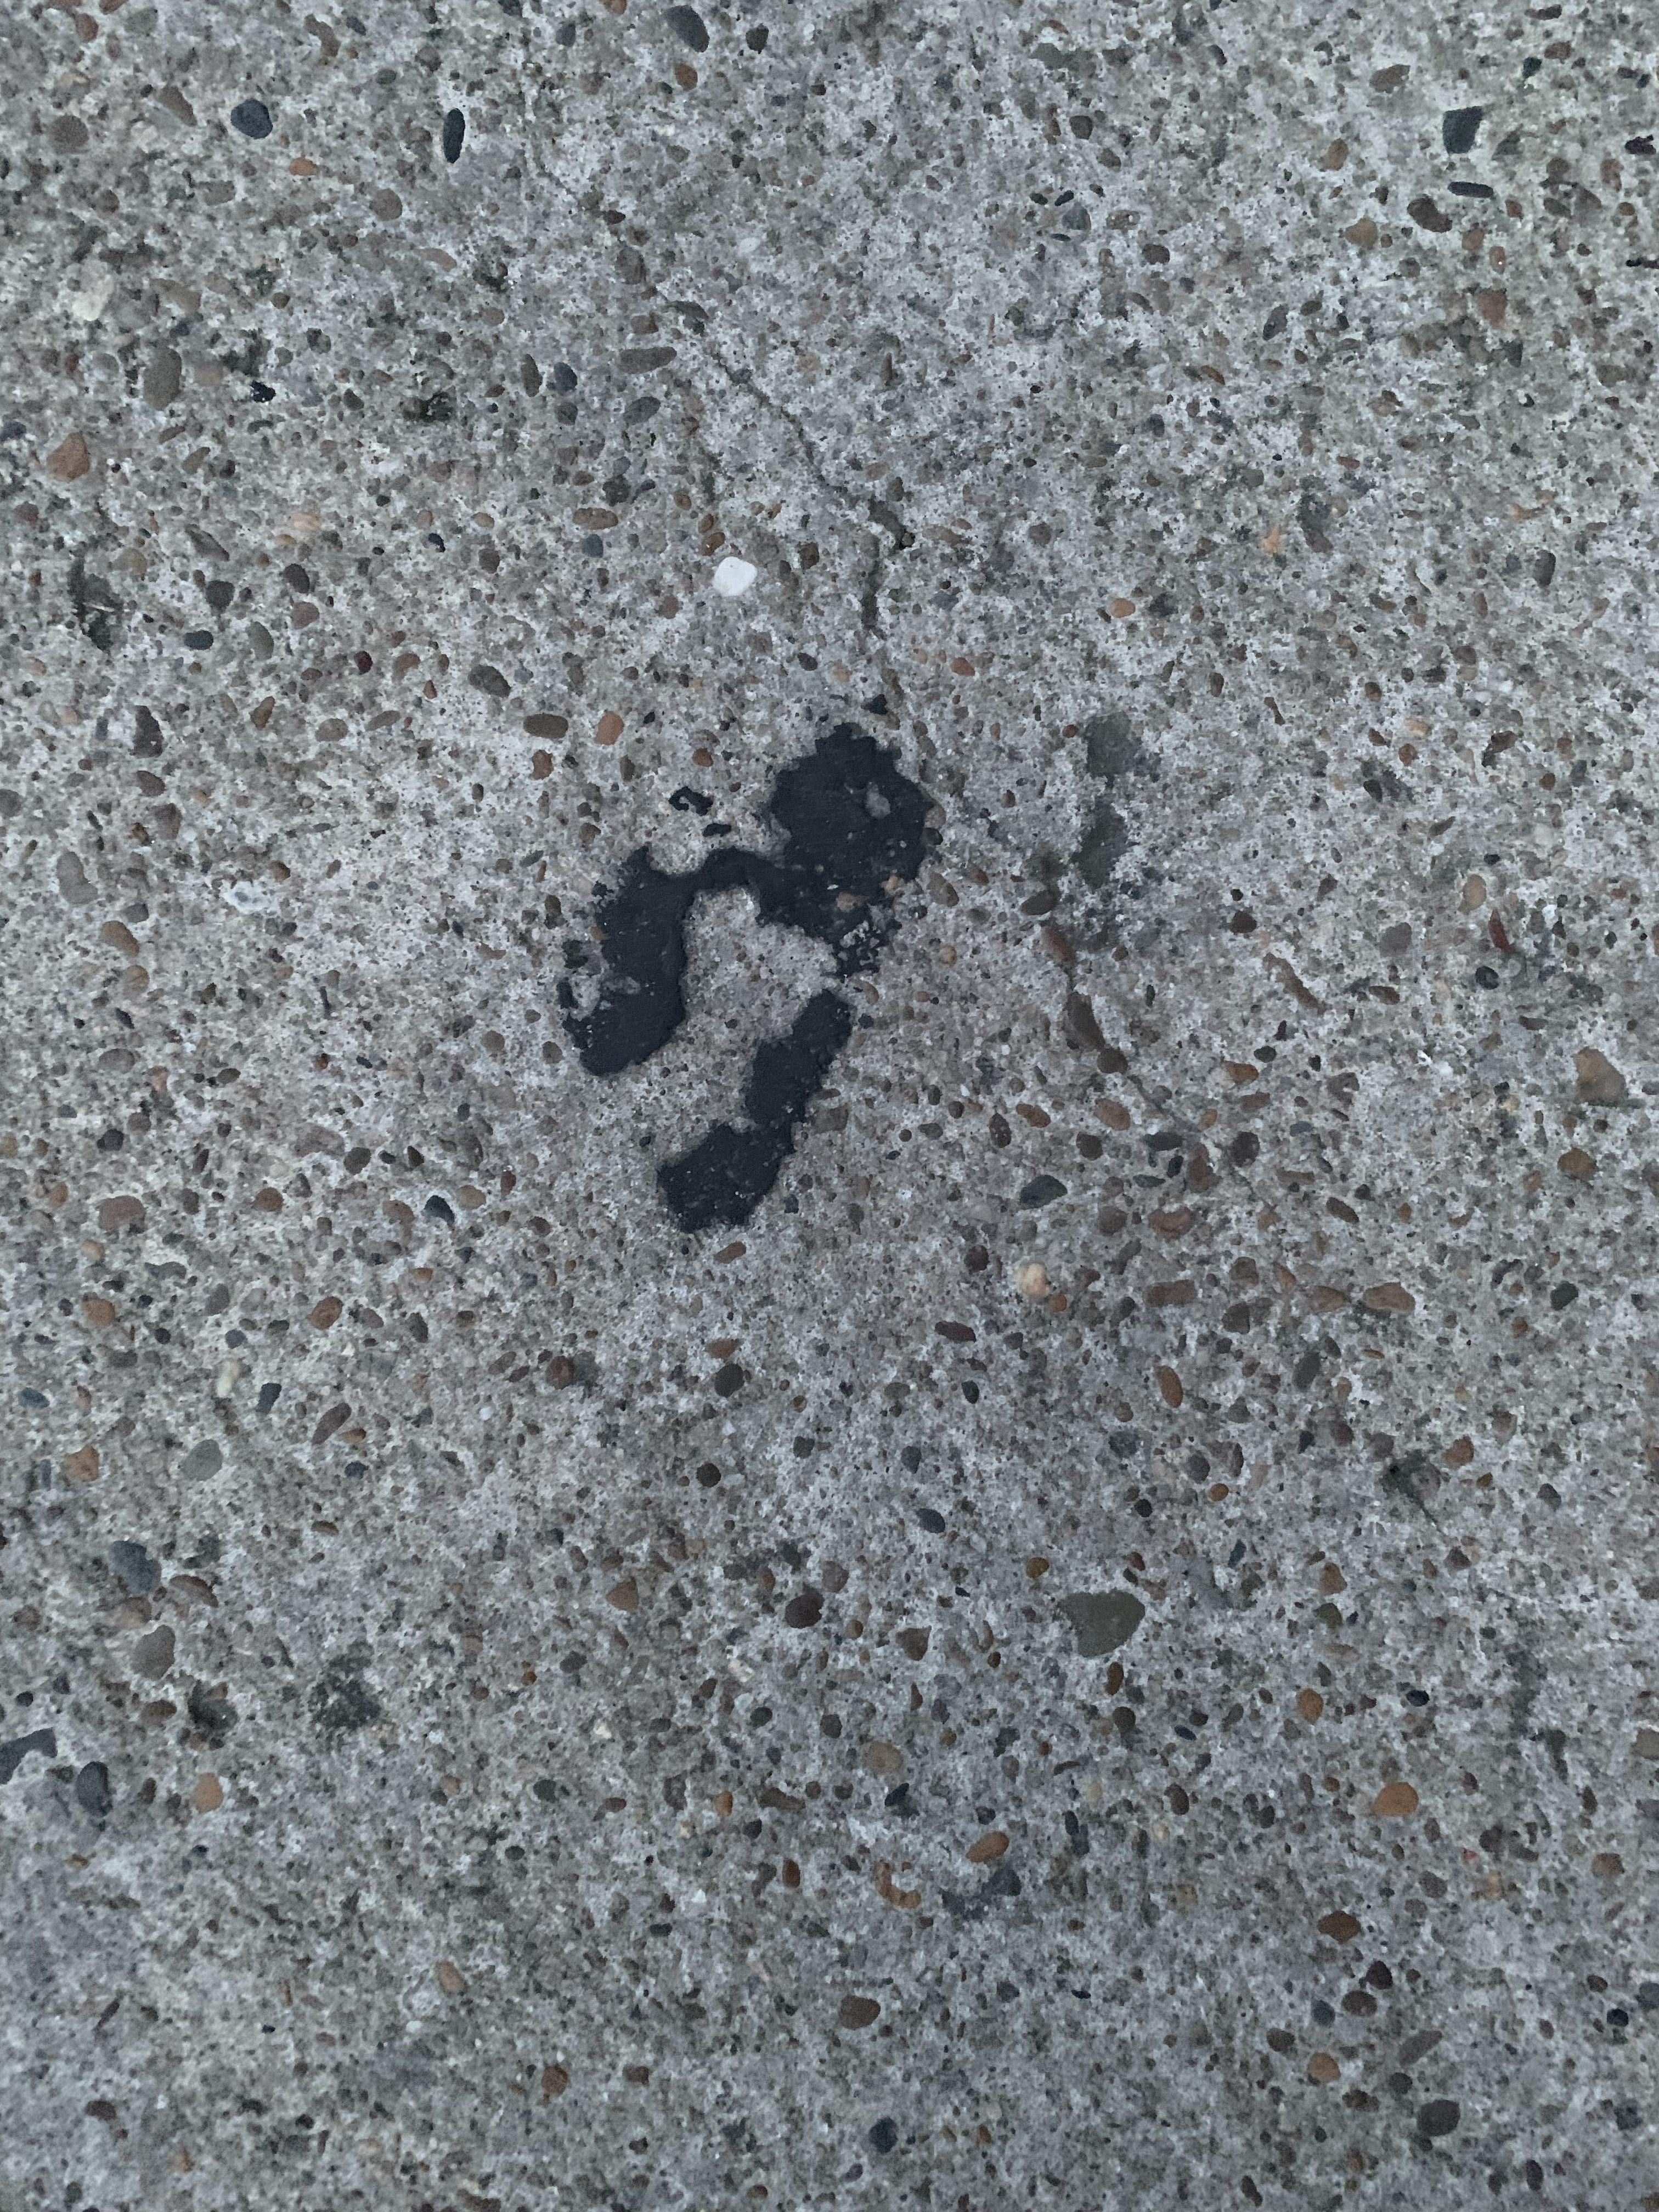grey spot: (561, 719, 941, 1235)
